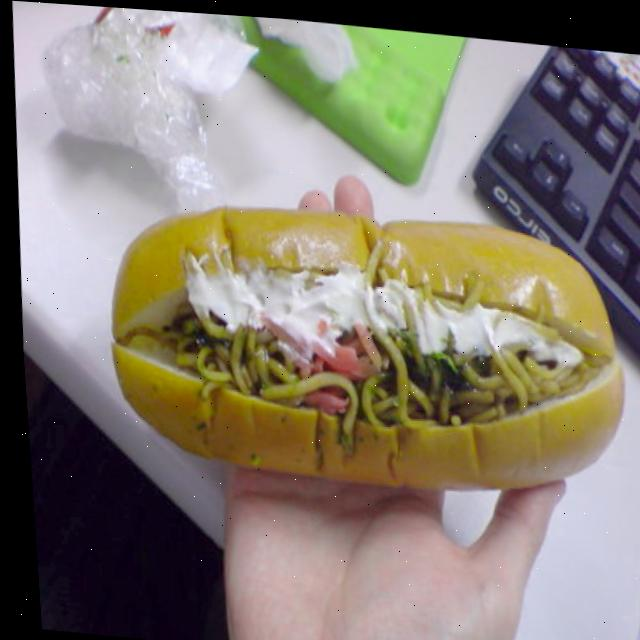三明治: (88, 185, 634, 520)
